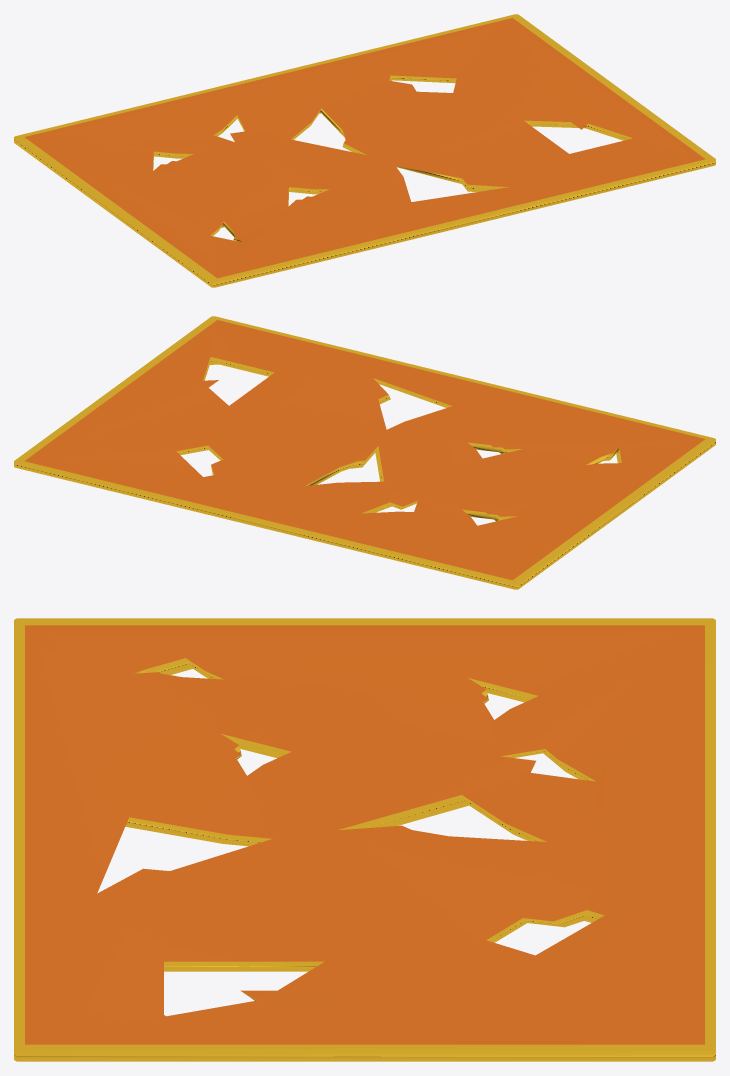
The model's file is dywan1.fbx.
3 views of the same model, one above another, from view 1: azimuth 30°, elevation 25°; view 2: azimuth 150°, elevation 25°; view 3: azimuth 270°, elevation 25° (orthographic). The views are drawn at different scales.
Visible parts, largest first — view 1: Cube; view 2: Cube; view 3: Cube.
Boxes of the visible parts, x1,y1,x2,y2 form: Cube: (14,14,715,287); Cube: (14,316,715,589); Cube: (14,618,715,1061).
Bounding box in the file's own units: 316 × 3.42 × 217.
